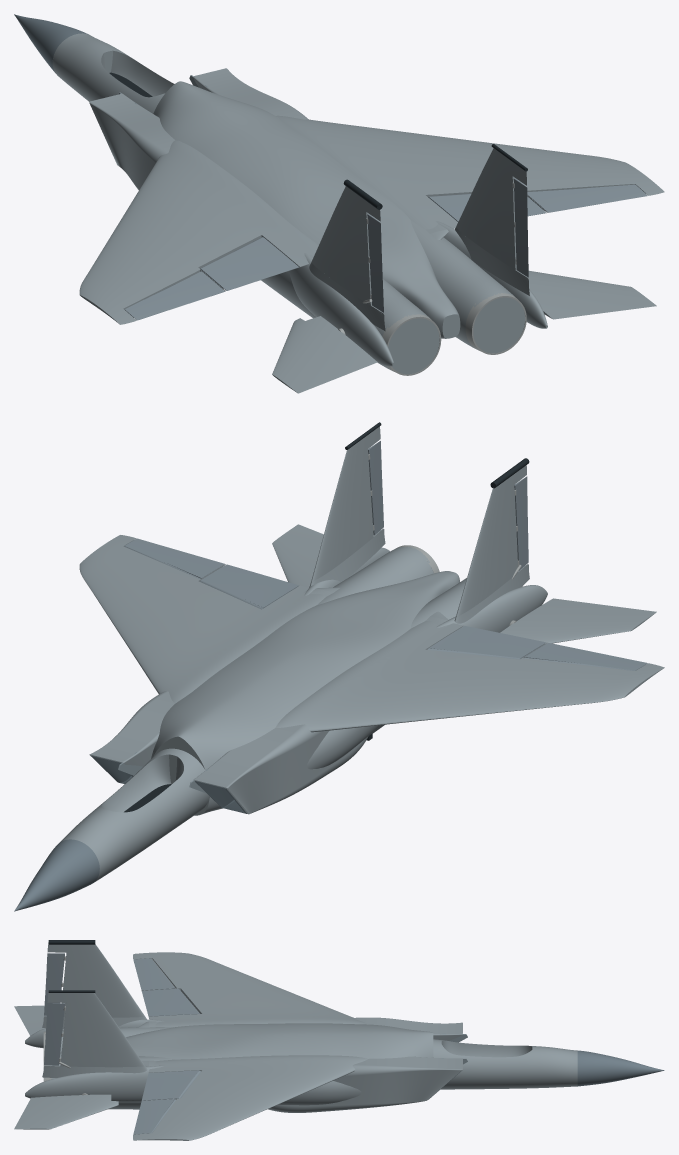
File: tails.glb
3 views of the same model, one above another, from view 1: azimuth 30°, elevation 25°; view 2: azimuth 150°, elevation 25°; view 3: azimuth 270°, elevation 25° (orthographic). The views are drawn at different scales.
Parts seen in each view (by area): view 1: airframe_tails (×6); view 2: airframe_tails (×6); view 3: airframe_tails (×5).
Boxes of the visible parts, <box> form: airframe_tails (×6): <box>14,14,664,393</box>; airframe_tails (×6): <box>14,422,664,911</box>; airframe_tails (×5): <box>14,940,664,1140</box>.
Size of the model in its own units: 13.05 by 4.15 by 19.24.
